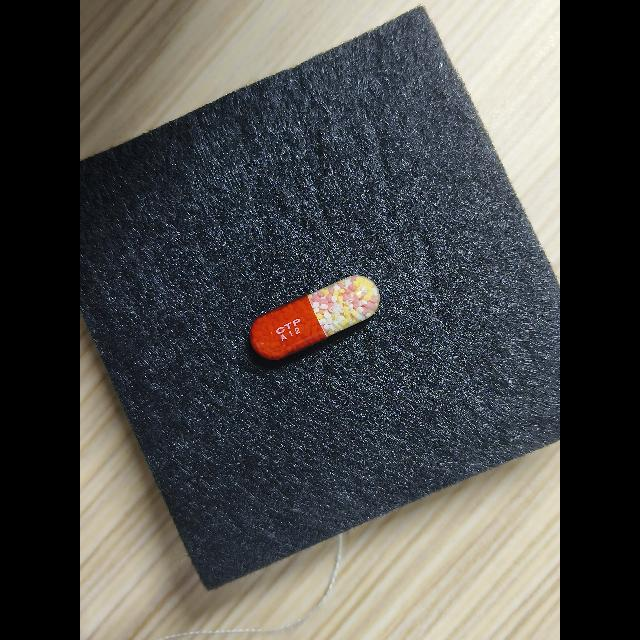Intact Capsule: (250, 276, 380, 360)
